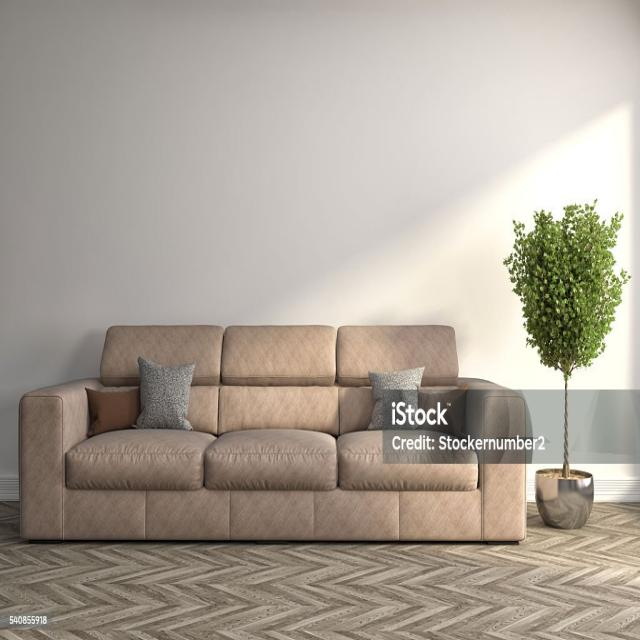back_cushion: (101, 325, 458, 436)
base: (49, 489, 481, 540)
left_arm: (479, 449, 526, 539), (466, 389, 524, 445)
right_arm: (19, 381, 88, 537)
seat_cushion: (66, 430, 478, 490)
stallion-sofa: (0, 0, 639, 639)
